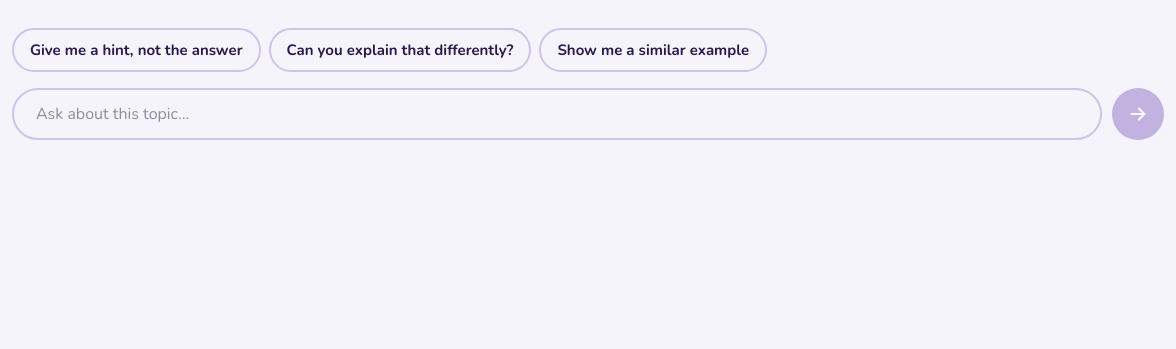
Test: TutorChat › renders markdown in the tutor's answer instead of literal syntax
The width and height of the screenshot is (1176, 349).
Type "how does it work?" into the field with placeholder "Ask about this topic…" at (557, 114), box [12,88,1102,140]
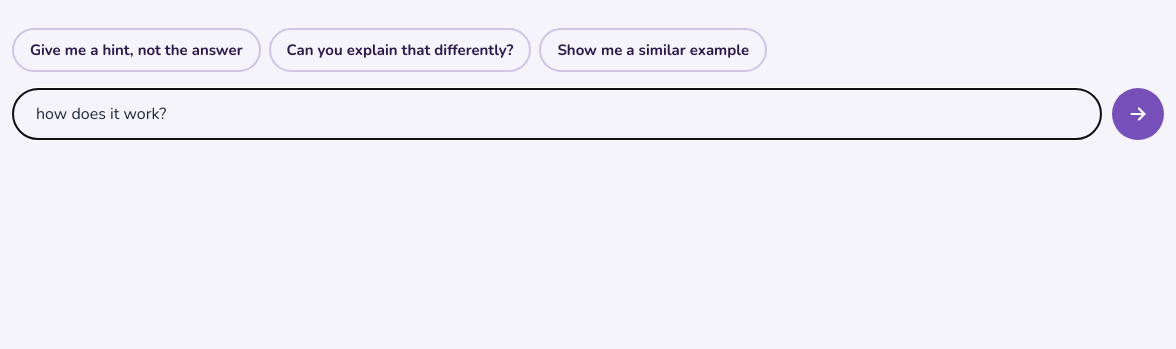
Click the button named "send" at (1138, 114), box [1112,88,1164,140]
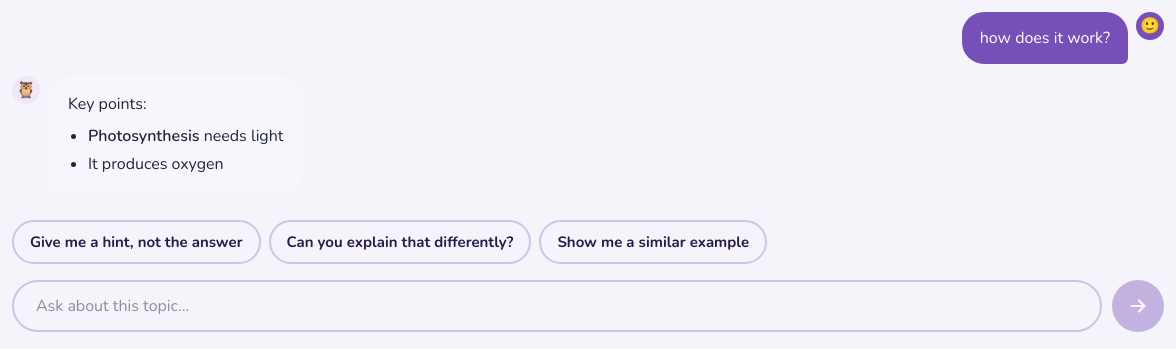
Result: the list is shown at [68,124,283,176]
Result: the text "Photosynthesis" is shown at [88,125,200,147]
Result: the number of list items is 2 at [88,124,283,148]; [88,153,224,175]
